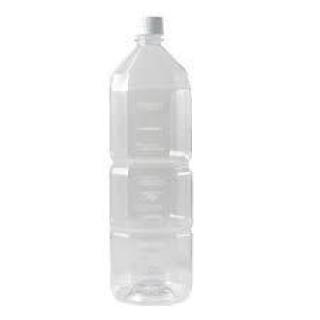Plastic-bottle: (108, 15, 196, 307)
